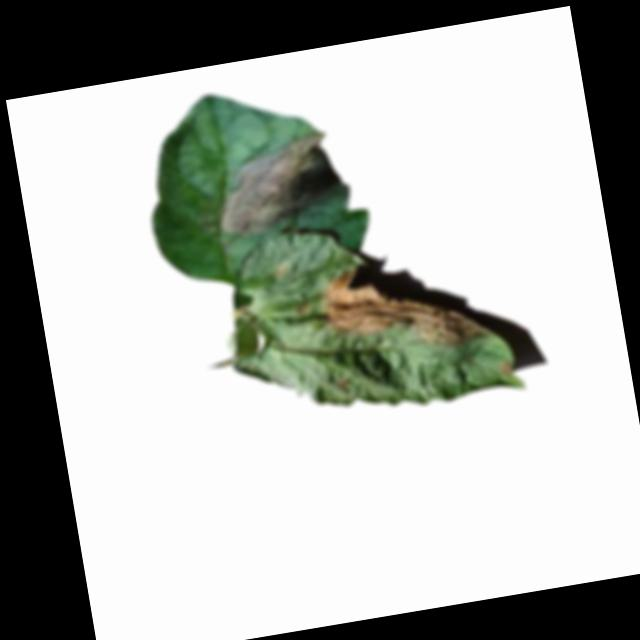Late_blight: (315, 246, 490, 369), (206, 126, 354, 243), (494, 356, 515, 379)
